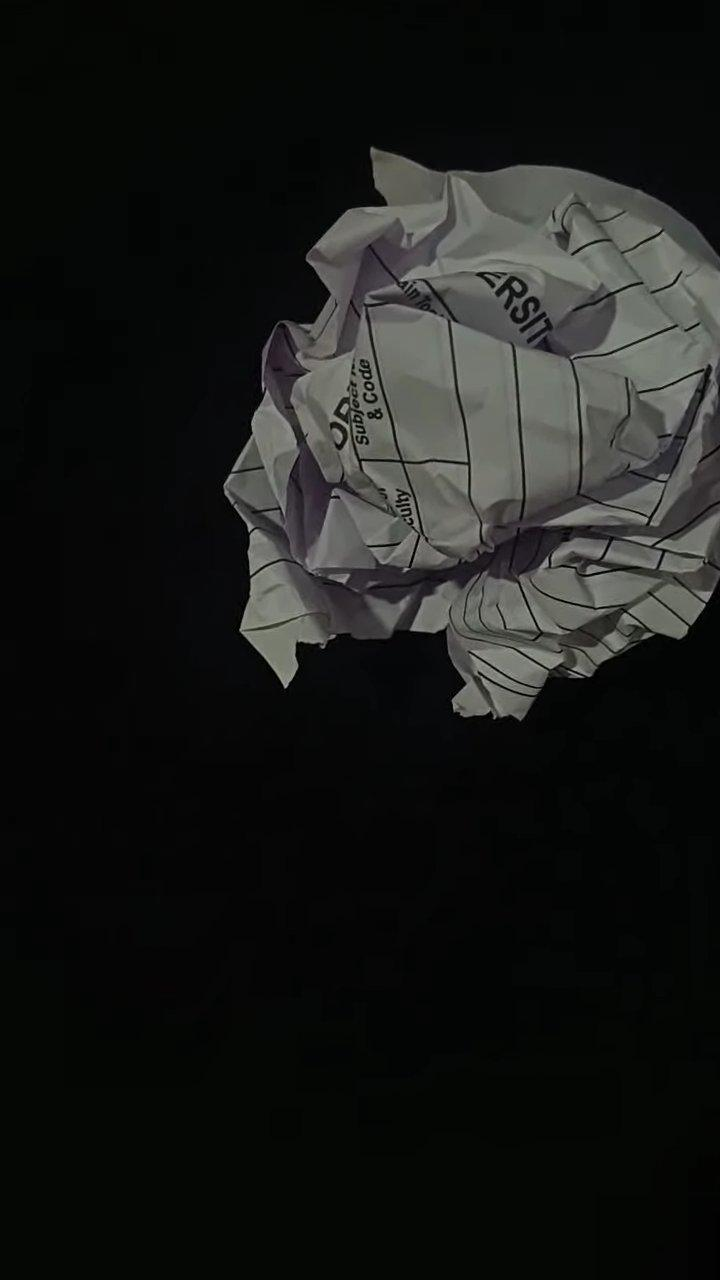PaperBall: (226, 152, 718, 716)
